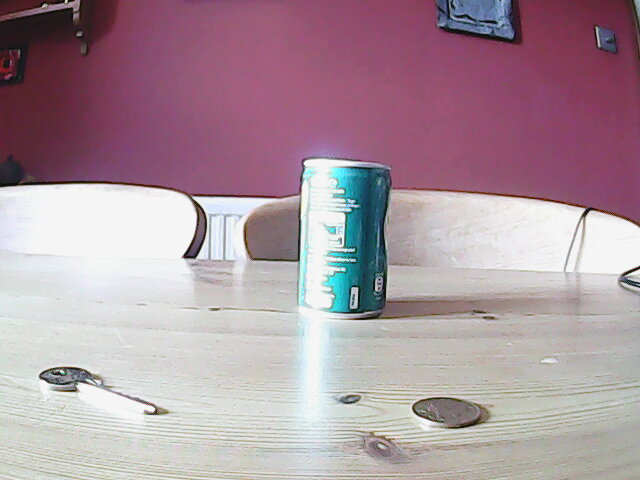Can: (298, 155, 394, 316)
Coin: (407, 394, 484, 428)
Key: (33, 364, 159, 417)
